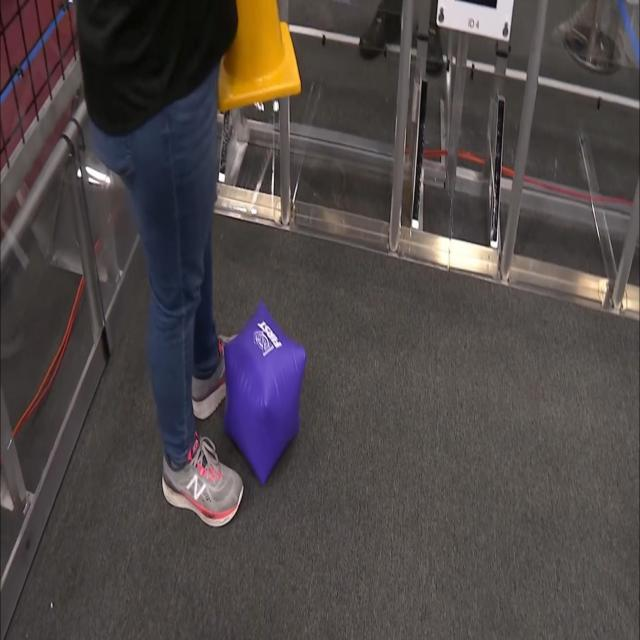frc_cone: (209, 0, 309, 108)
frc_cube: (221, 304, 306, 482)
